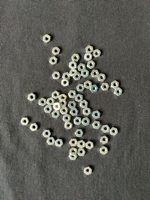nut: (100, 146, 109, 155), (55, 139, 64, 148), (53, 102, 62, 111), (75, 94, 84, 103), (84, 167, 92, 176), (70, 148, 78, 157), (86, 141, 94, 150), (70, 139, 79, 147), (47, 138, 56, 146), (101, 136, 109, 145), (110, 128, 119, 136), (75, 130, 84, 138), (30, 124, 39, 132), (93, 121, 101, 130), (74, 117, 82, 126), (63, 114, 71, 123), (70, 108, 79, 116), (60, 107, 69, 115), (52, 110, 60, 119), (44, 106, 53, 114), (80, 100, 88, 109), (68, 101, 77, 109), (39, 98, 47, 107), (28, 93, 36, 102), (59, 94, 67, 103), (52, 91, 60, 100), (90, 85, 99, 93), (101, 83, 110, 91), (111, 81, 120, 89), (98, 74, 107, 82), (91, 70, 100, 78), (52, 72, 61, 80), (78, 149, 86, 157), (78, 141, 86, 149), (43, 130, 51, 138), (21, 118, 29, 126), (102, 125, 110, 133), (65, 122, 73, 130), (82, 118, 90, 126), (93, 111, 101, 119), (83, 108, 91, 116), (47, 98, 55, 106), (69, 91, 77, 99), (77, 84, 85, 92), (115, 88, 123, 96), (62, 79, 70, 87), (73, 73, 81, 81), (70, 69, 78, 77), (88, 61, 96, 69), (72, 54, 80, 62), (50, 57, 58, 65), (85, 53, 93, 61), (93, 50, 101, 58), (86, 46, 94, 54), (52, 47, 60, 55), (43, 35, 51, 43), (82, 69, 89, 78), (70, 61, 77, 70), (85, 81, 92, 89), (63, 73, 71, 80), (78, 64, 86, 71), (69, 155, 78, 161), (59, 101, 67, 107)
